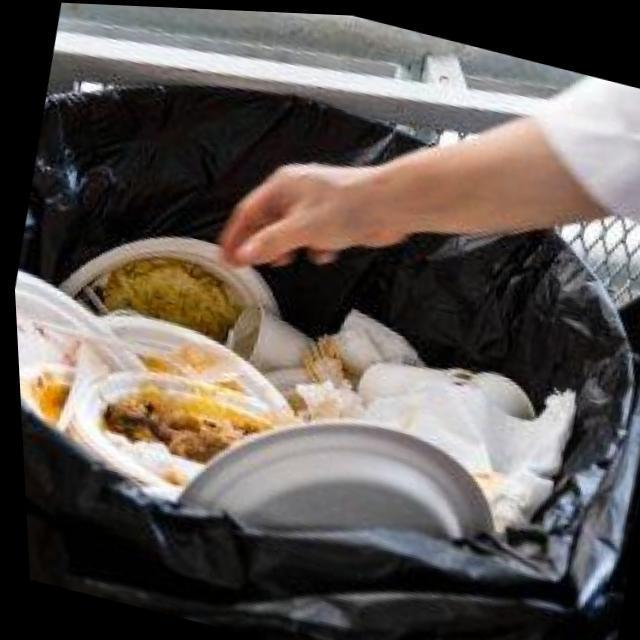Garbage: (12, 238, 640, 600)
contaminated_waste: (353, 358, 570, 527), (174, 418, 487, 535), (12, 270, 135, 423), (96, 313, 284, 409), (354, 360, 443, 399)
